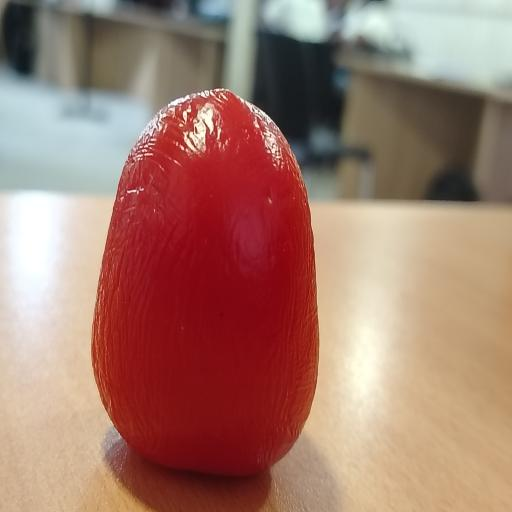spoiled: (91, 89, 319, 475)
